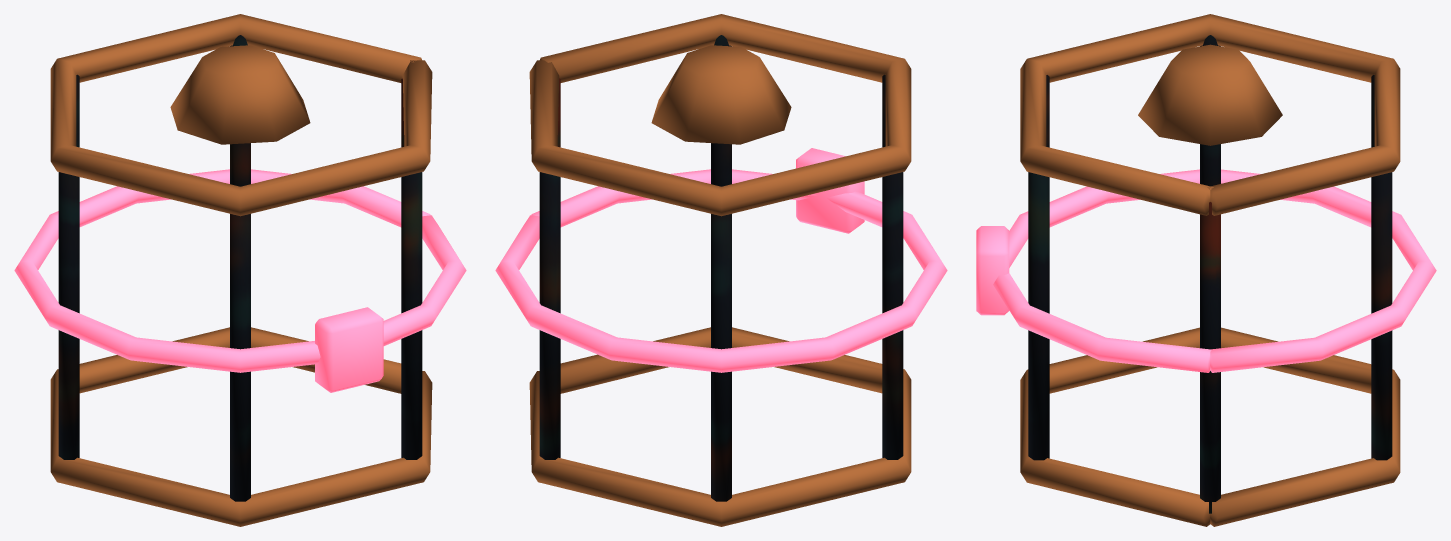
The model's file is siphon_cage.glb.
3 renders of one model, left to right at view 1: azimuth 30°, elevation 25°; view 2: azimuth 150°, elevation 25°; view 3: azimuth 270°, elevation 25°, orthographic.
Parts seen in each view (by area): view 1: cage_frame, cage_lock; view 2: cage_frame, cage_lock; view 3: cage_frame, cage_lock.
Boxes of the visible parts, x1,y1,x2,y2 form: cage_frame: [50, 14, 432, 526]; cage_lock: [14, 169, 466, 392]; cage_frame: [529, 14, 911, 526]; cage_lock: [495, 148, 947, 372]; cage_frame: [1020, 14, 1400, 526]; cage_lock: [976, 169, 1436, 372].
Size of the model in its own units: 1.37 by 1.26 by 1.4.
Materials: 3 (1 with a texture image).
